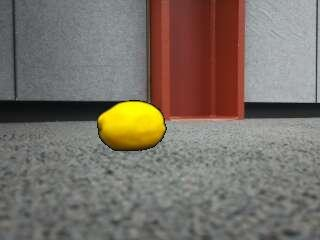lemon: (99, 101, 166, 150)
